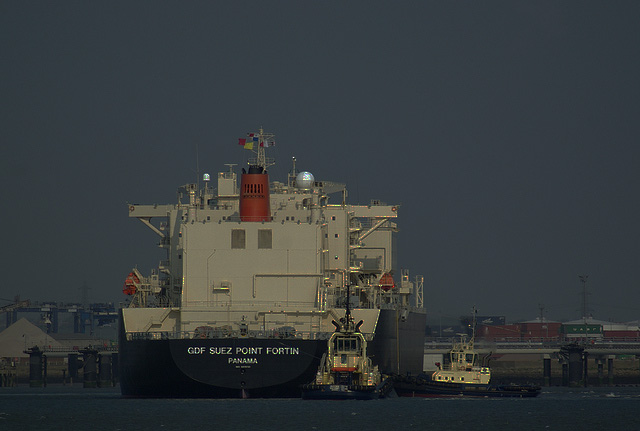LNG_ship: (115, 132, 427, 392)
tug_boat: (398, 324, 545, 402), (306, 294, 392, 402)
